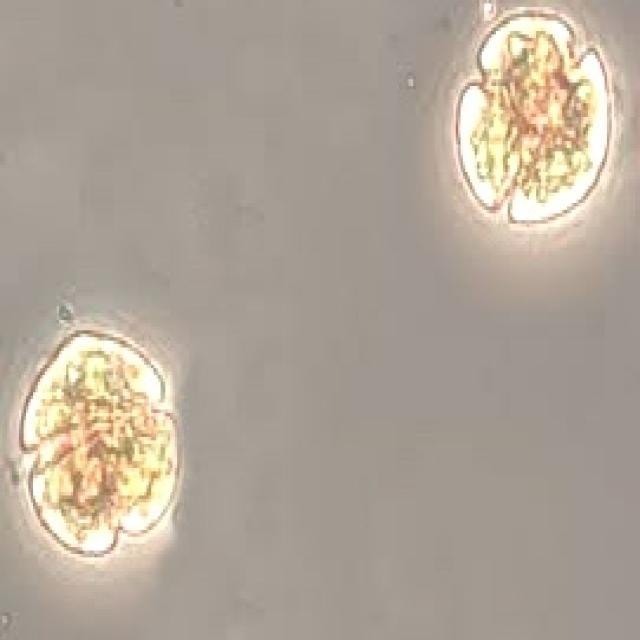Karenia: (24, 324, 181, 566), (460, 12, 617, 235)
